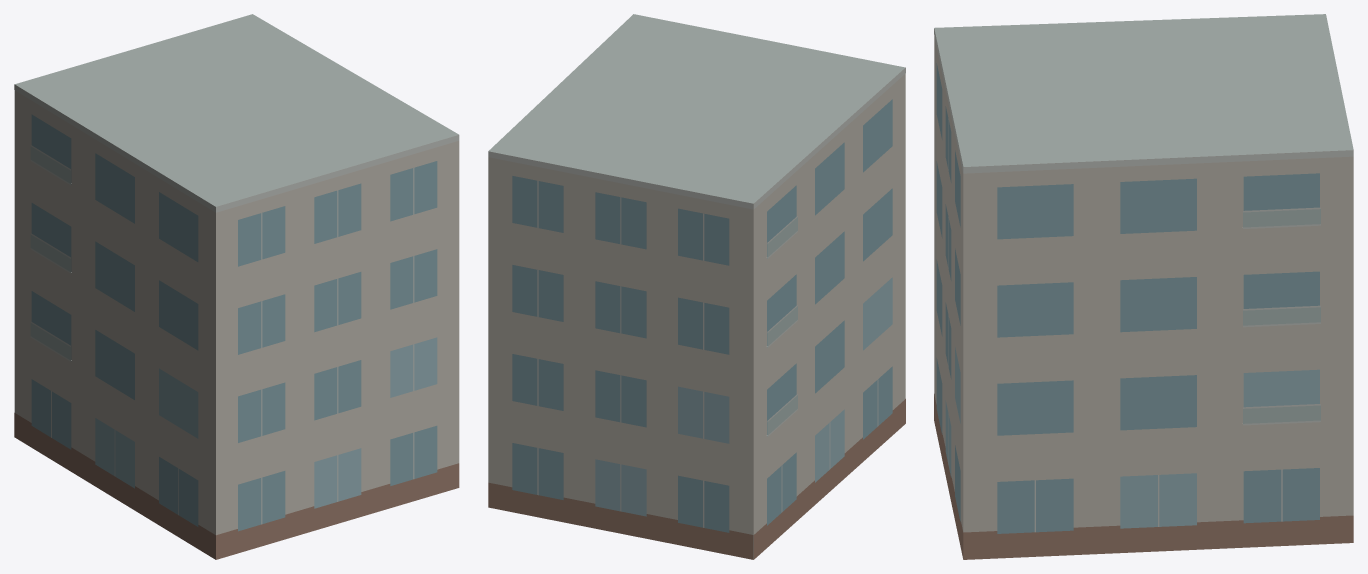
File: survey-upis-32819586.glb
The picture shows the model from 3 angles, left to right: view 1: azimuth 30°, elevation 25°; view 2: azimuth 150°, elevation 25°; view 3: azimuth 270°, elevation 25°; orthographic projection. The views are drawn at different scales.
Parts seen in each view (by area): view 1: survey-upis-32819586.tmp; view 2: survey-upis-32819586.tmp; view 3: survey-upis-32819586.tmp.
Part boxes in pixels (bbox=[...]): survey-upis-32819586.tmp: bbox=[14, 14, 459, 559]; survey-upis-32819586.tmp: bbox=[488, 14, 905, 559]; survey-upis-32819586.tmp: bbox=[934, 14, 1353, 559].
Bounding box in the file's own units: 12.3 × 14.7 × 14.24.
